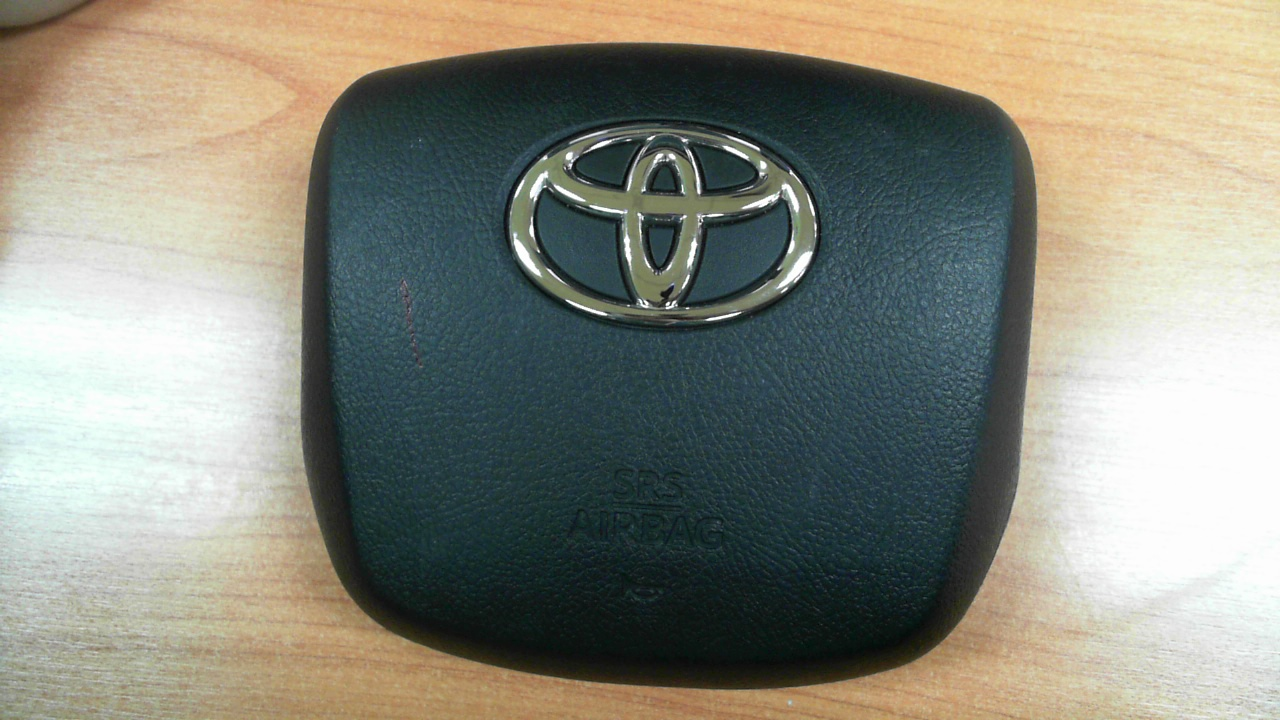Airbag: (298, 42, 1039, 691)
Toyota: (509, 122, 819, 326)
